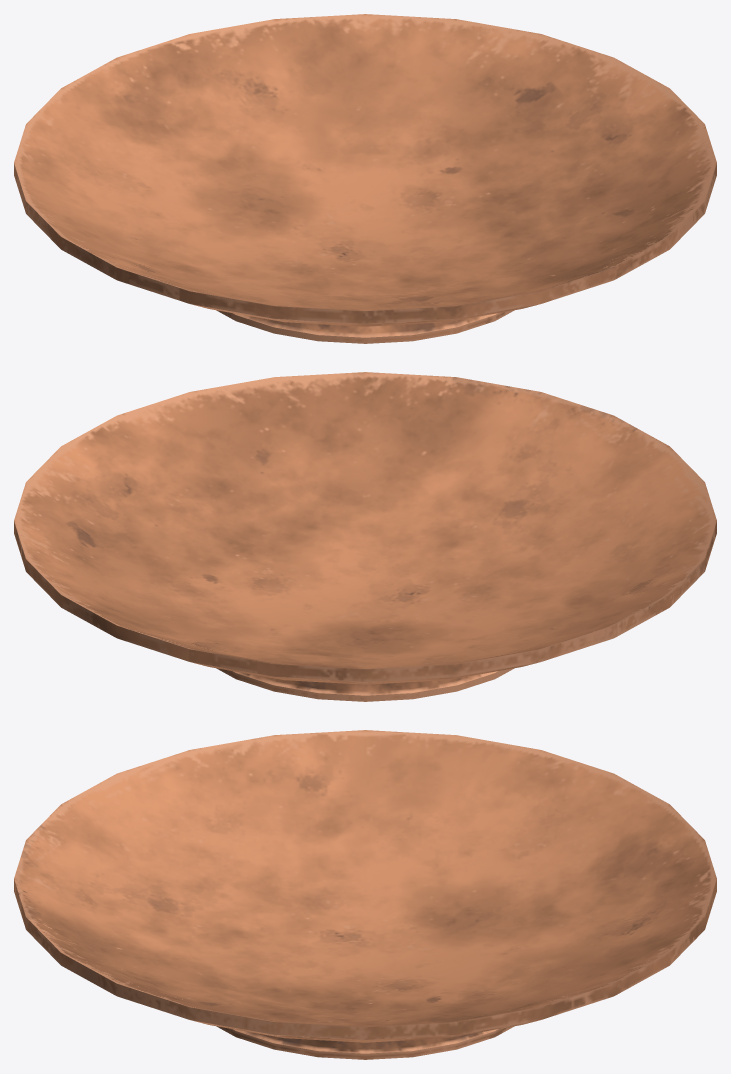
Rendered from SM_CandlePlate1.fbx.
3 views of the same model, one above another, from view 1: azimuth 30°, elevation 25°; view 2: azimuth 150°, elevation 25°; view 3: azimuth 270°, elevation 25° (orthographic).
Visible parts, largest first — view 1: SM_CandlePlate1_LOD0; view 2: SM_CandlePlate1_LOD0; view 3: SM_CandlePlate1_LOD0.
Part boxes in pixels (bbox=[...]): SM_CandlePlate1_LOD0: bbox=[14, 14, 716, 343]; SM_CandlePlate1_LOD0: bbox=[14, 372, 716, 701]; SM_CandlePlate1_LOD0: bbox=[14, 730, 716, 1059].
Size of the model in its own units: 18.9 by 18.9 by 3.08.
Materials: 1 (1 with a texture image).
